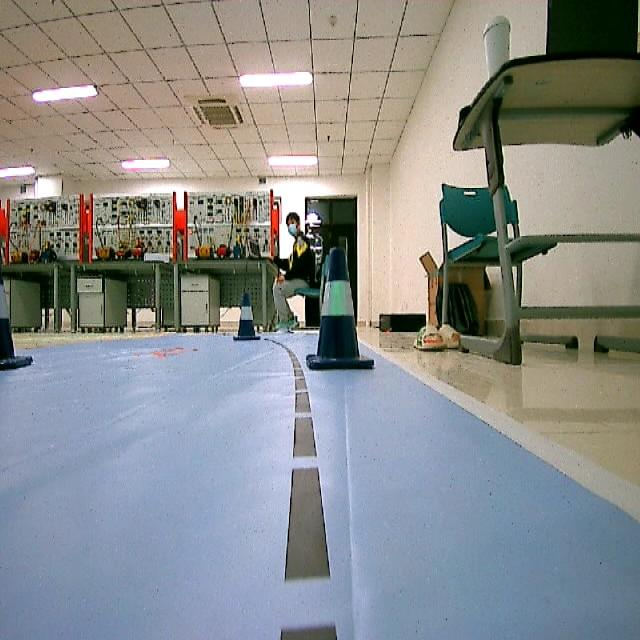obstacle: (308, 244, 378, 372), (231, 290, 260, 346)
